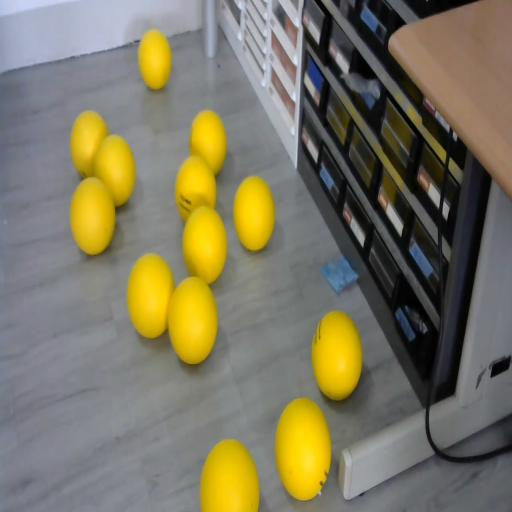FUEL: (274, 396, 332, 499), (311, 309, 363, 400), (166, 275, 218, 364), (126, 252, 175, 338), (200, 440, 258, 510), (69, 176, 116, 256), (181, 205, 228, 284), (233, 175, 275, 250), (70, 110, 109, 178), (189, 110, 227, 174), (138, 28, 172, 90)
